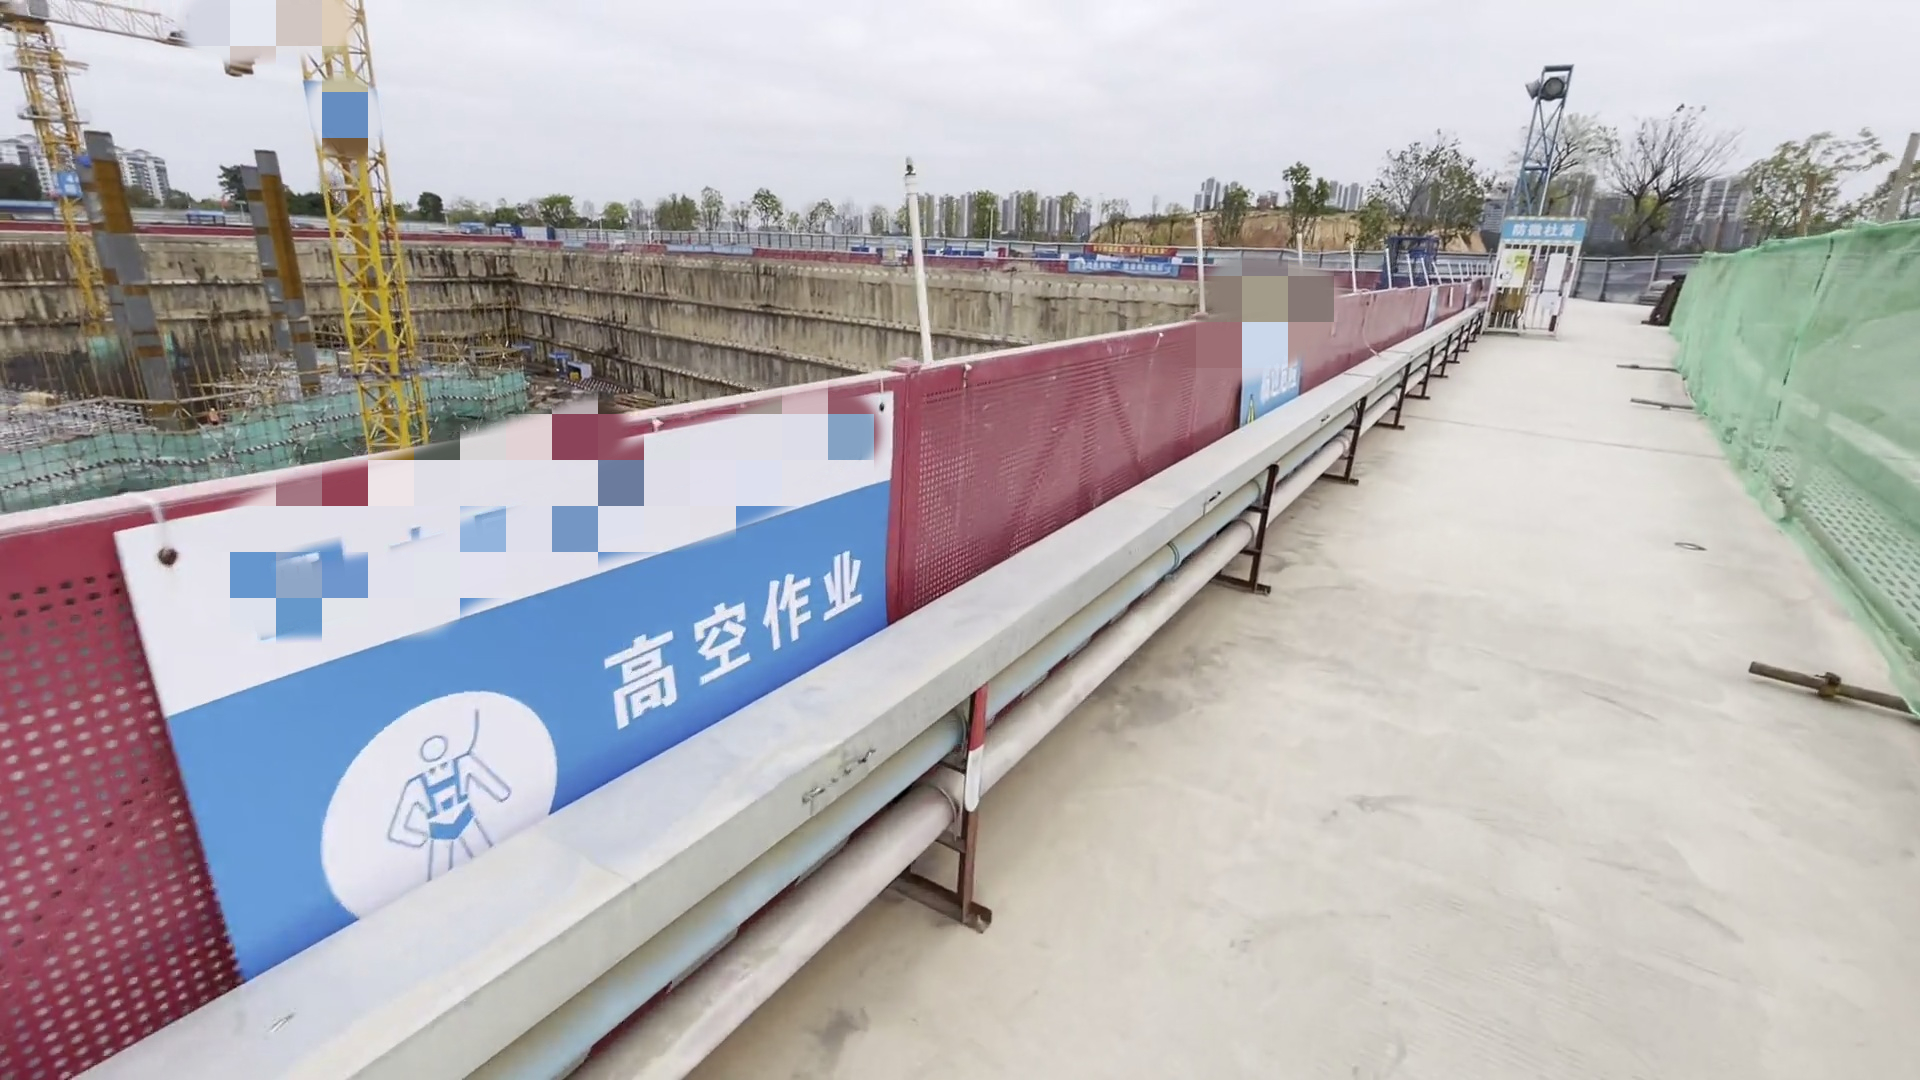fence: (1, 290, 1487, 1080)
slogan: (580, 531, 882, 683), (1055, 236, 1189, 284), (1251, 356, 1335, 398), (1515, 211, 1576, 247)
